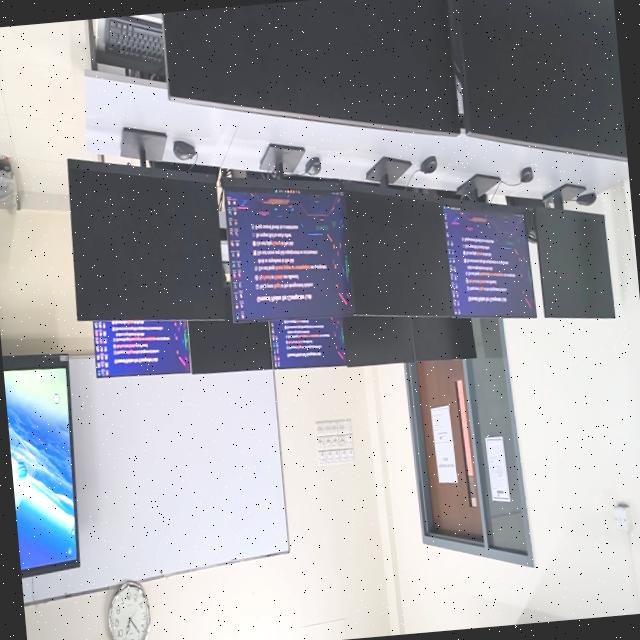Digital board: (3, 355, 78, 572)
Keyboard: (105, 16, 163, 69)
Monitor: (162, 0, 458, 136), (448, 0, 627, 160), (68, 159, 225, 320), (225, 188, 352, 320), (343, 190, 452, 316), (443, 207, 535, 316), (535, 206, 614, 317), (187, 287, 272, 373), (93, 320, 190, 376), (271, 317, 345, 368), (341, 316, 413, 366), (411, 317, 476, 361)
Mouse: (173, 140, 196, 160), (304, 157, 320, 175), (575, 192, 596, 205), (420, 156, 436, 173), (520, 167, 533, 182)
